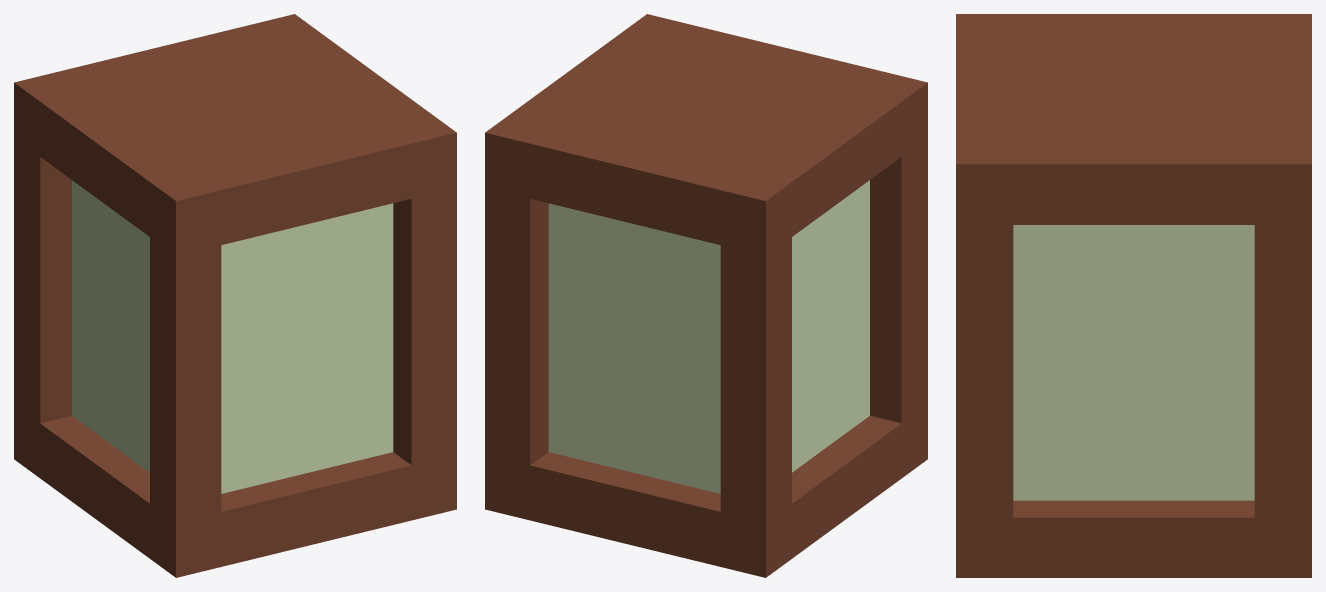
The model's file is lamp_04.fbx.
3 views of the same model, side by side, from view 1: azimuth 30°, elevation 25°; view 2: azimuth 150°, elevation 25°; view 3: azimuth 270°, elevation 25° (orthographic). The views are drawn at different scales.
Visible parts, largest first — view 1: Cube.122; view 2: Cube.122; view 3: Cube.122.
Boxes of the visible parts, x1,y1,x2,y2 form: Cube.122: (14,14,456,577); Cube.122: (485,14,927,577); Cube.122: (956,14,1311,577).
Bounding box in the file's own units: 71.69 × 91.92 × 71.69.
